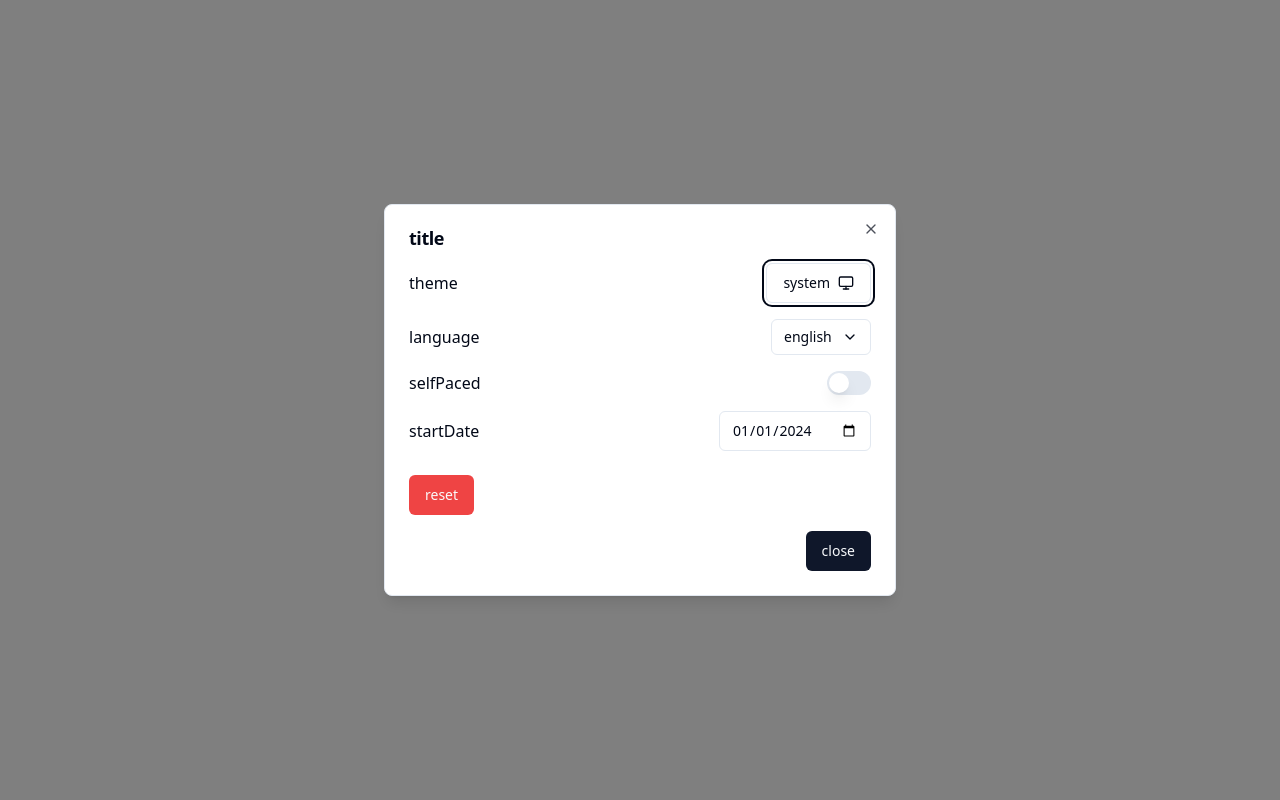
Test: SettingsDialog › Reset Plan › should cancel the reset operation when cancel is clicked
This screenshot has width=1280, height=800.
Click the button "reset". click: (442, 495)
box: [409,475,474,515]
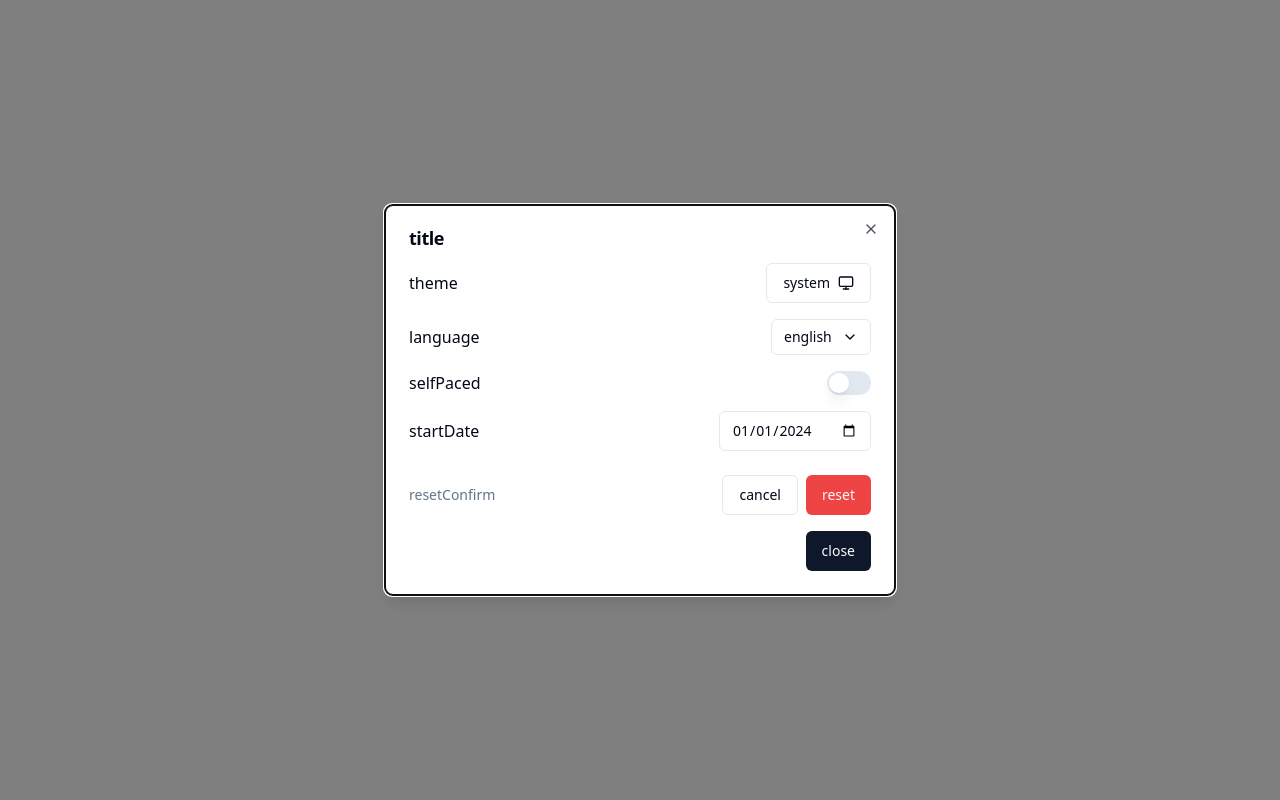
Click the button "cancel". click: (760, 495)
box: [722,475,798,515]
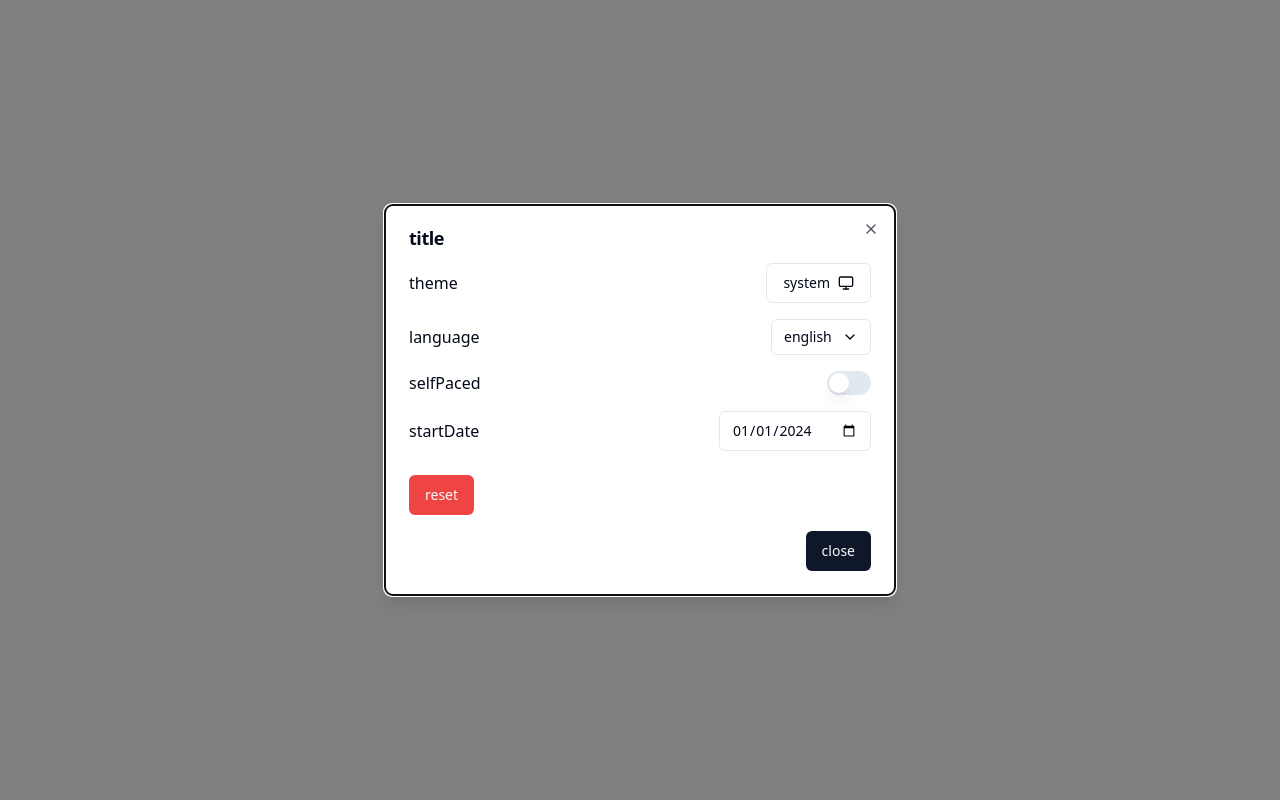
Now the text "resetConfirm" is gone
